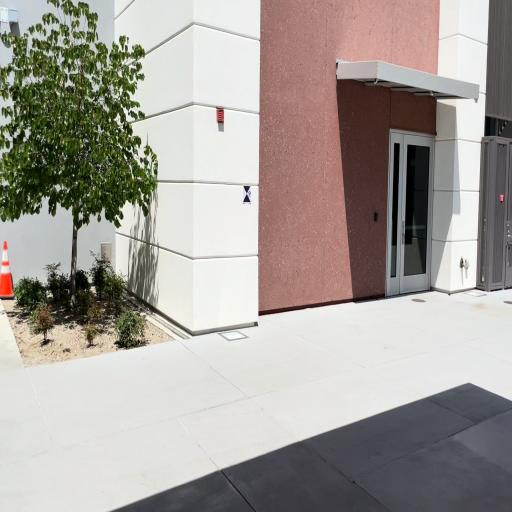target9: (243, 185, 252, 204)
